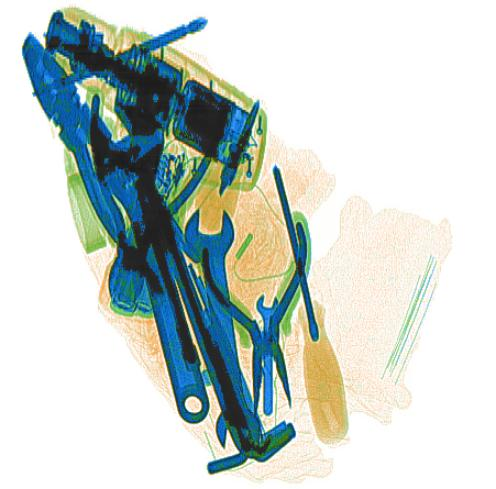battery: (107, 222, 180, 322)
